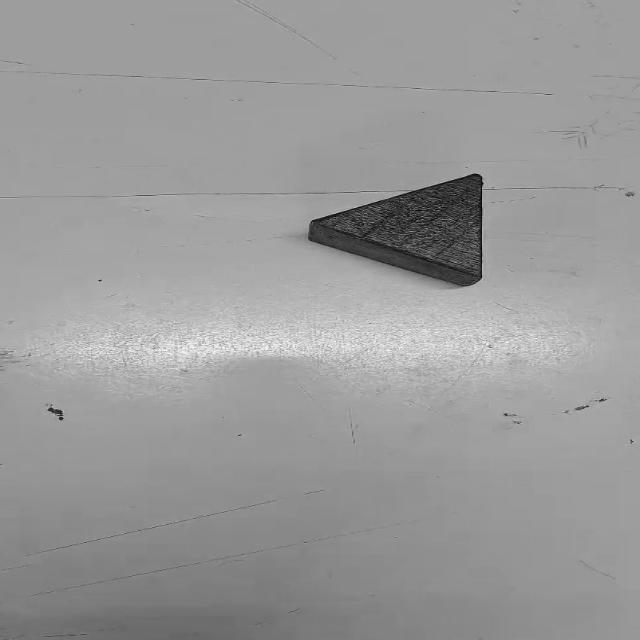btriangle: (308, 173, 490, 284)
